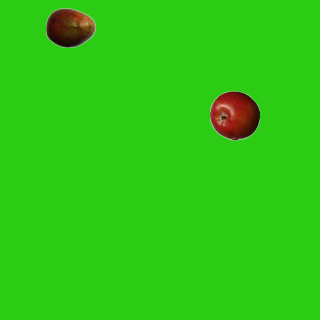Apple Braeburn: (209, 90, 259, 140)
Mango Red: (45, 2, 95, 52)
